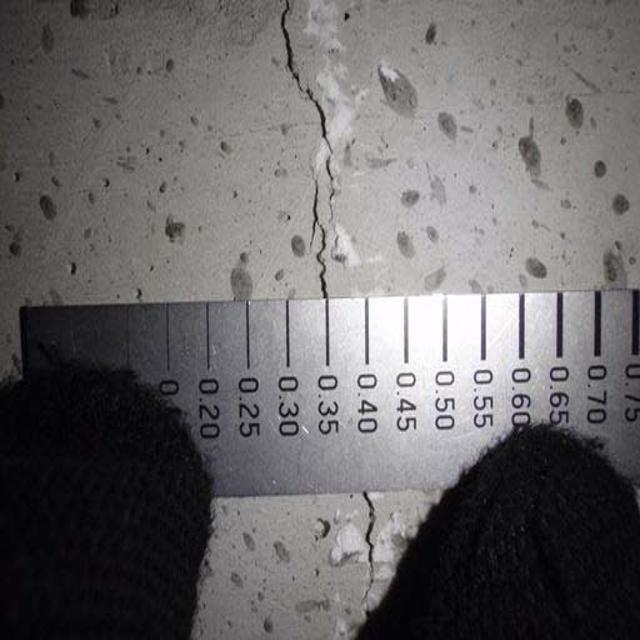crack: (273, 6, 368, 301), (347, 486, 394, 616)
